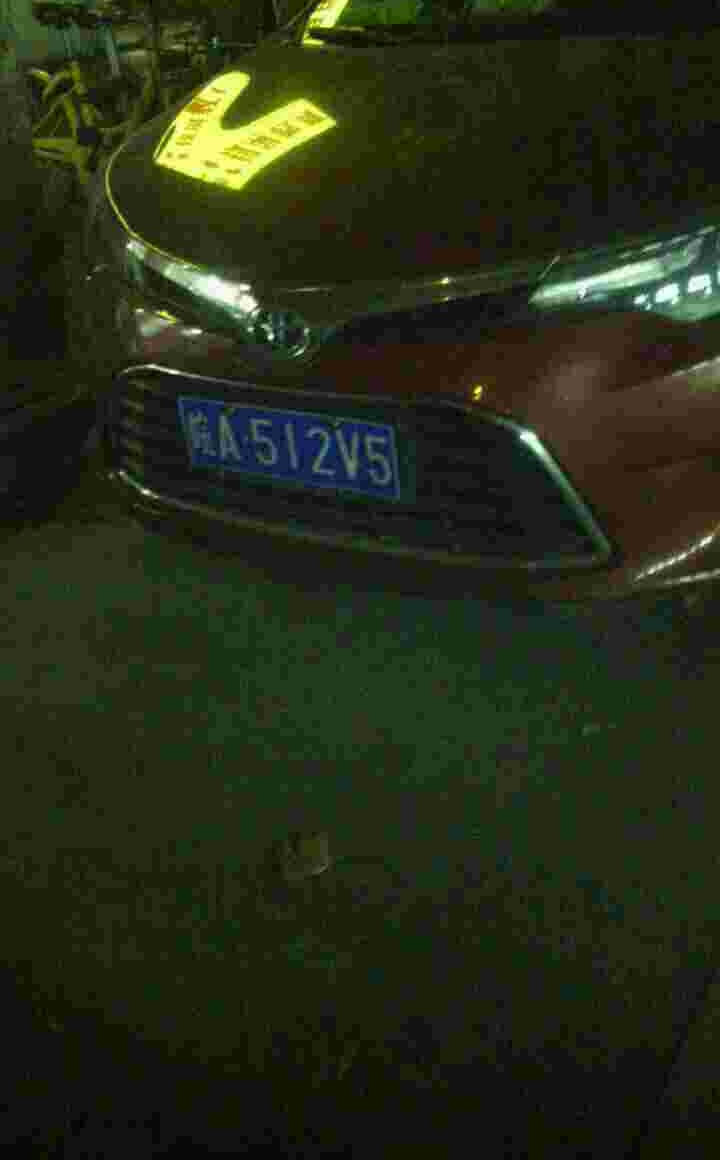license_plate: (174, 402, 400, 499)
